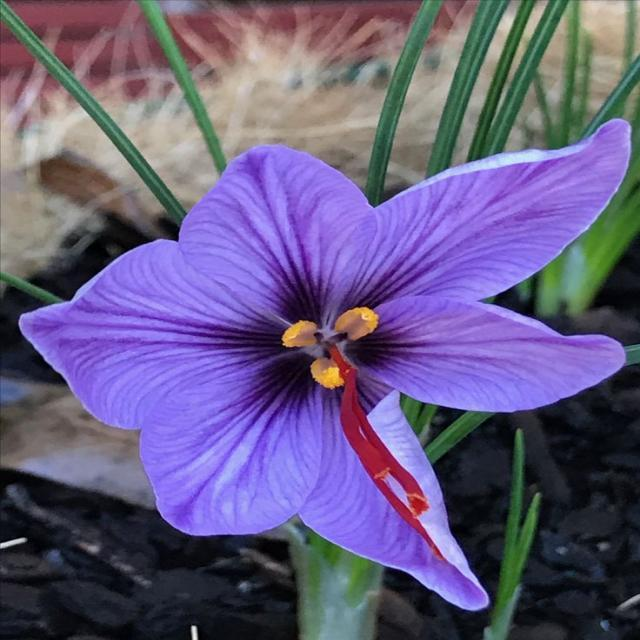Flower: (35, 116, 640, 618)
stigma: (337, 376, 449, 564)
